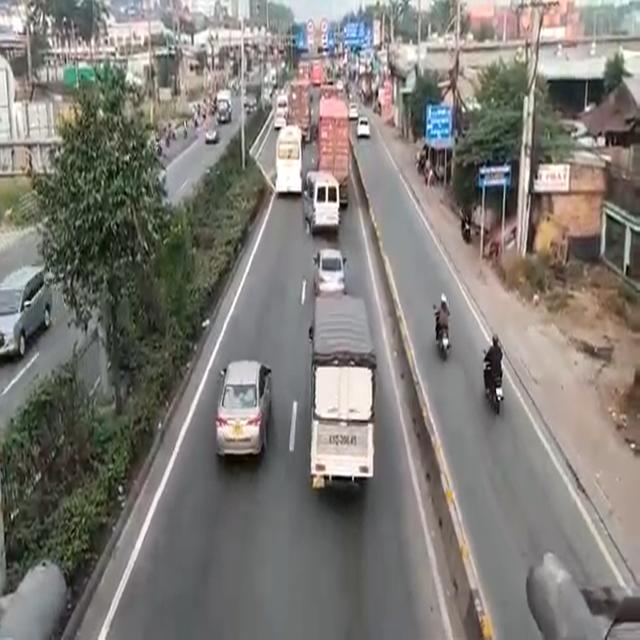bus: (276, 125, 303, 201)
car: (217, 360, 268, 456), (0, 272, 47, 350), (305, 168, 342, 234), (314, 252, 343, 292)
motor: (485, 352, 507, 408), (431, 307, 450, 353)
truck: (312, 291, 376, 485), (318, 86, 351, 178), (289, 78, 308, 129)
